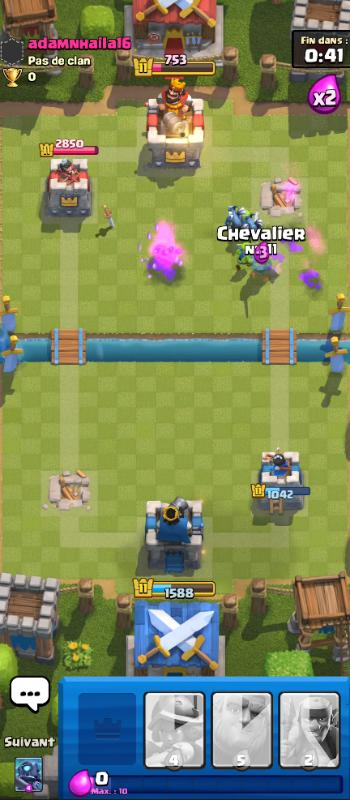chevalier: (250, 249, 284, 284)
gargouille: (224, 204, 248, 233), (242, 215, 264, 235)
gobelin: (234, 240, 259, 267)
